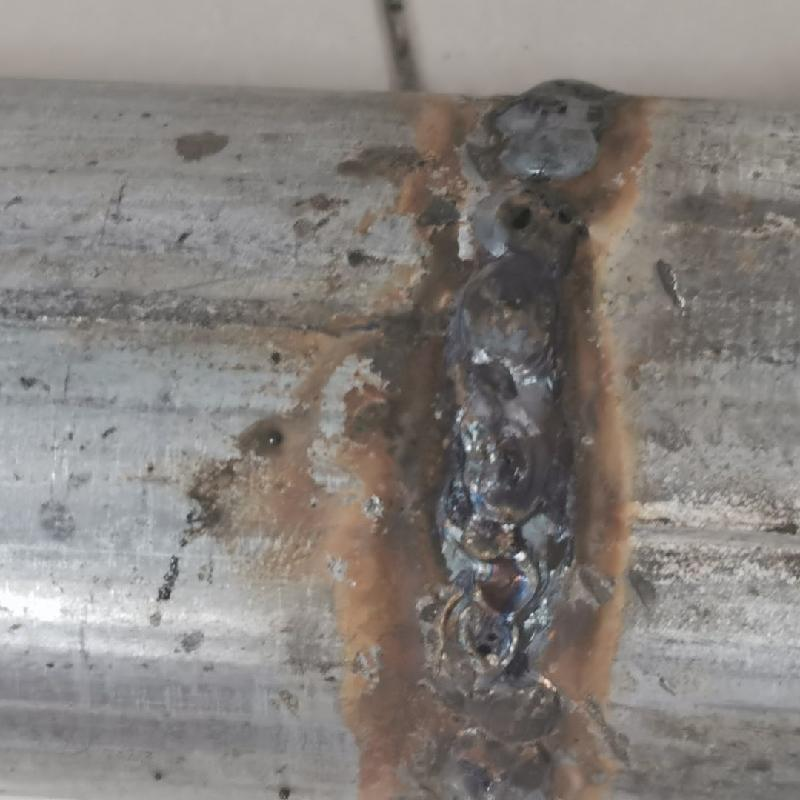Surface_pores: (491, 185, 578, 240), (462, 619, 510, 665)
crater: (443, 374, 557, 797)
wrong_size: (459, 65, 615, 374)
